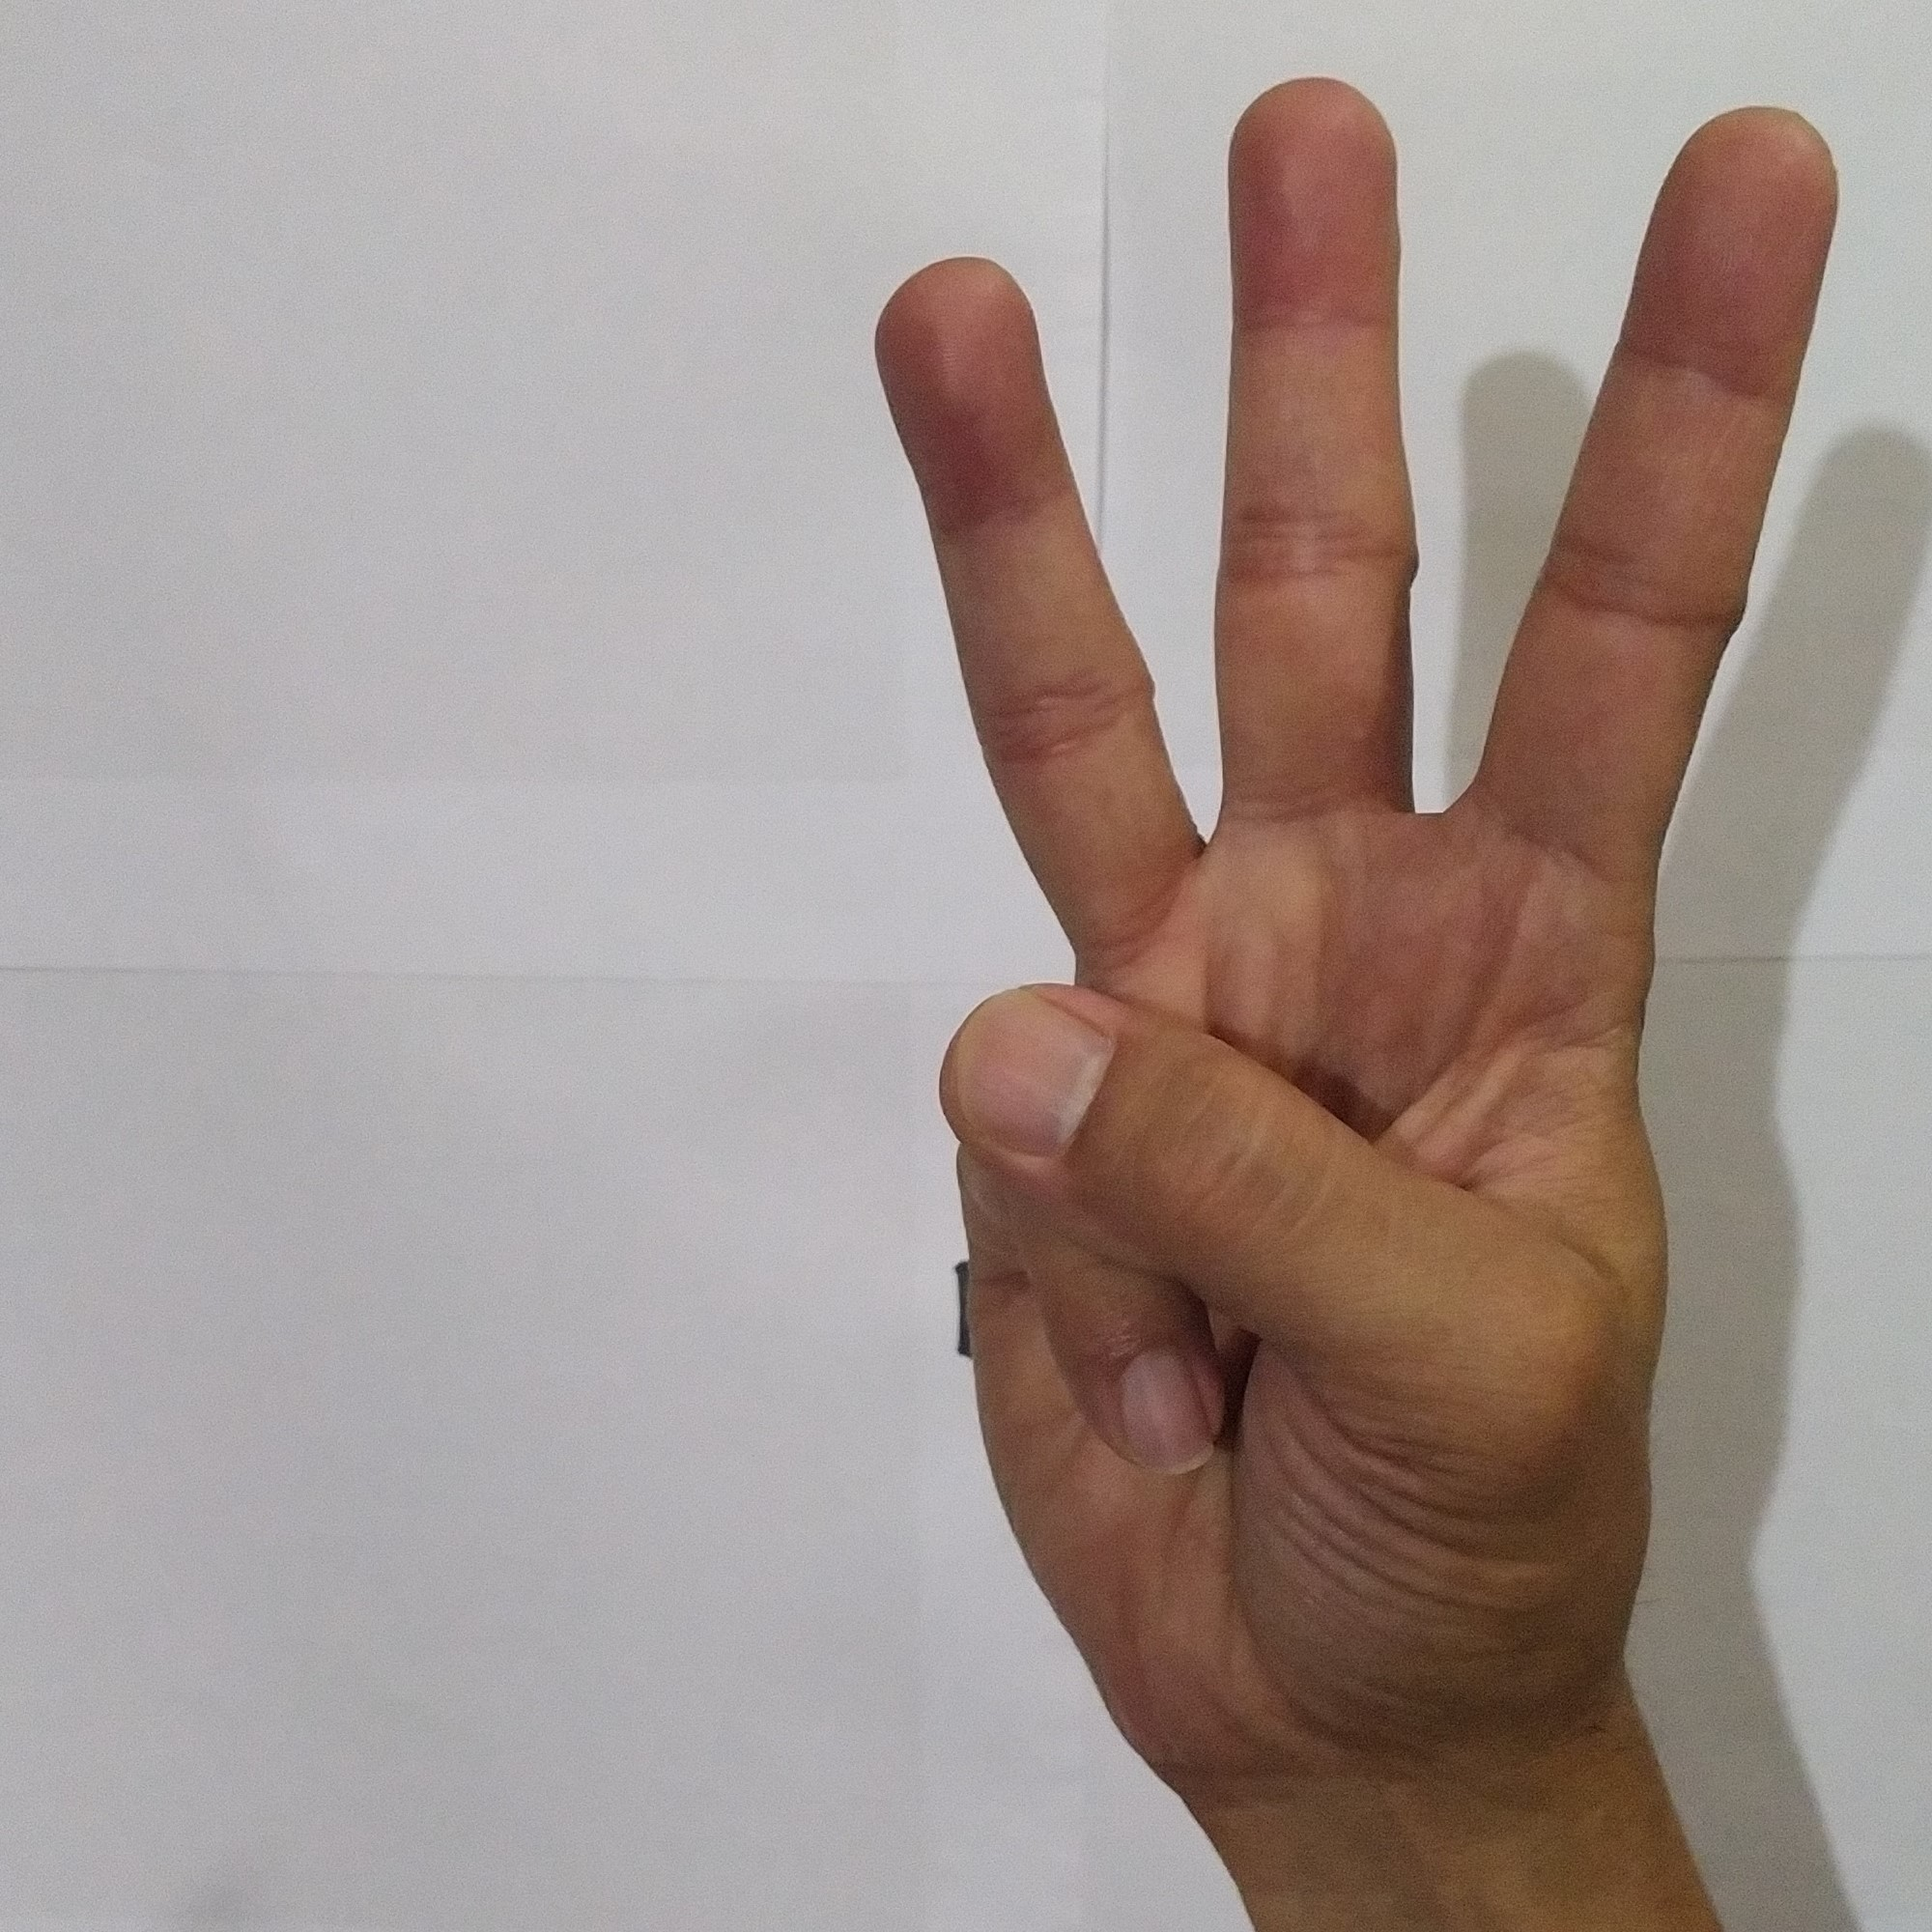W: (839, 50, 1870, 1771)
